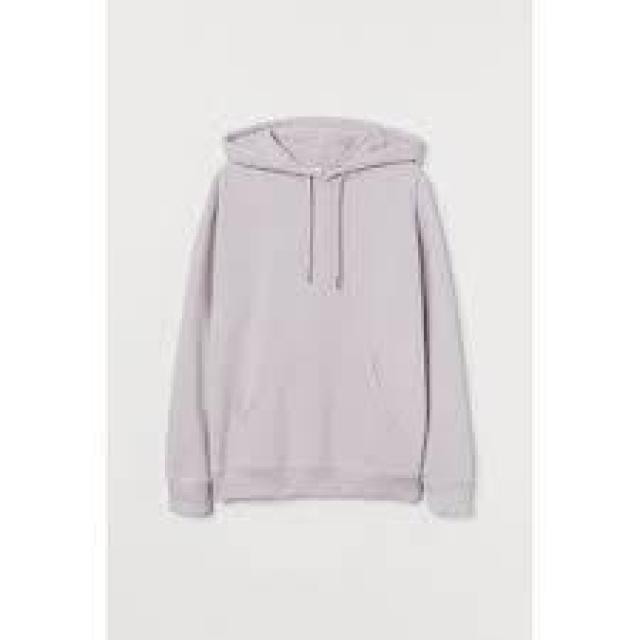sweater: (142, 110, 492, 553)
